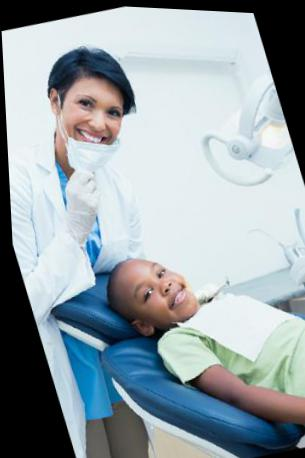NONE: (126, 257, 202, 325)
WRONG: (47, 81, 132, 170)
